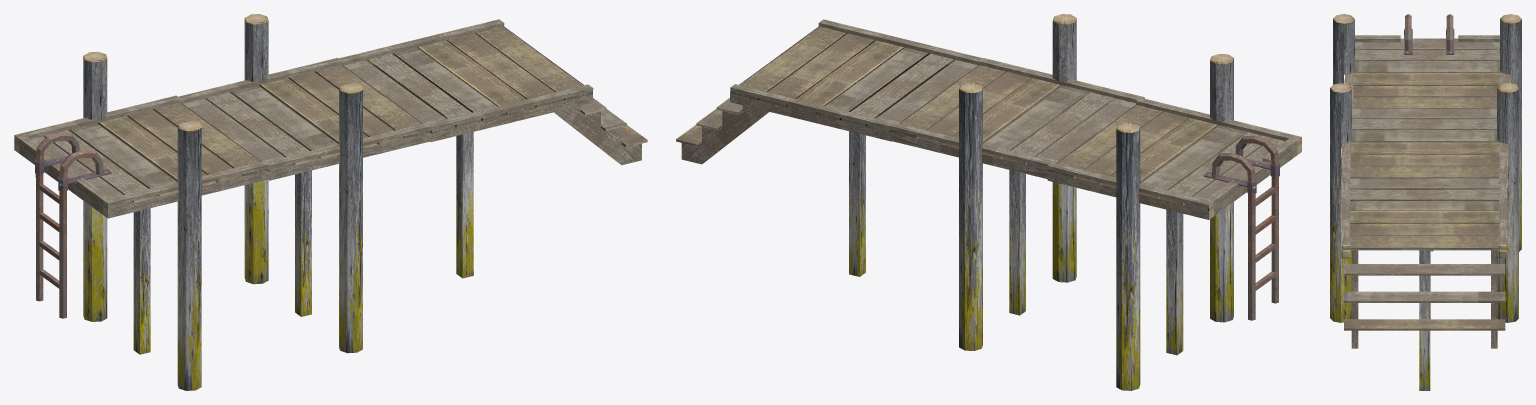
The model's file is dick.obj.
3 renders of one model, left to right at view 1: azimuth 30°, elevation 25°; view 2: azimuth 150°, elevation 25°; view 3: azimuth 270°, elevation 25°, orthographic. The views are drawn at different scales.
Parts seen in each view (by area): view 1: dock.022; view 2: dock.022; view 3: dock.022.
Part boxes in pixels (<box>): dock.022: <box>14,14,647,390</box>; dock.022: <box>676,14,1301,390</box>; dock.022: <box>1330,14,1521,390</box>.
Size of the model in its own units: 0.5115 by 0.2308 by 0.1735.
